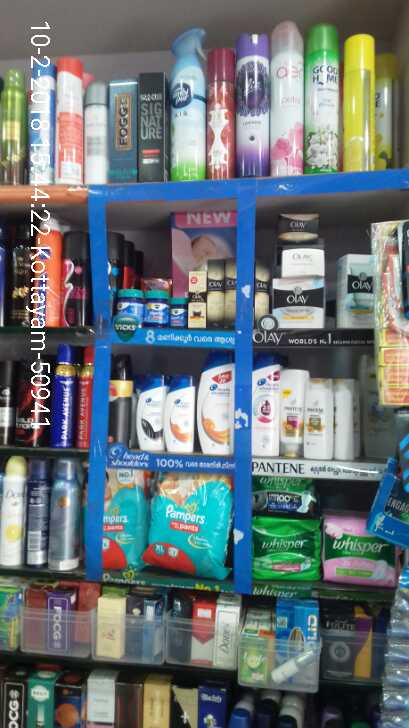ambipureVesus: (169, 27, 210, 181)
